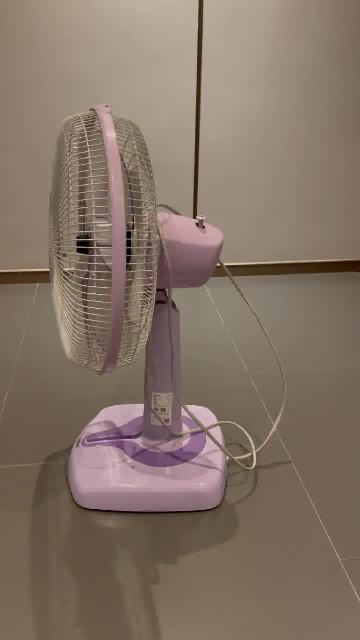Fan: (48, 105, 229, 515)
